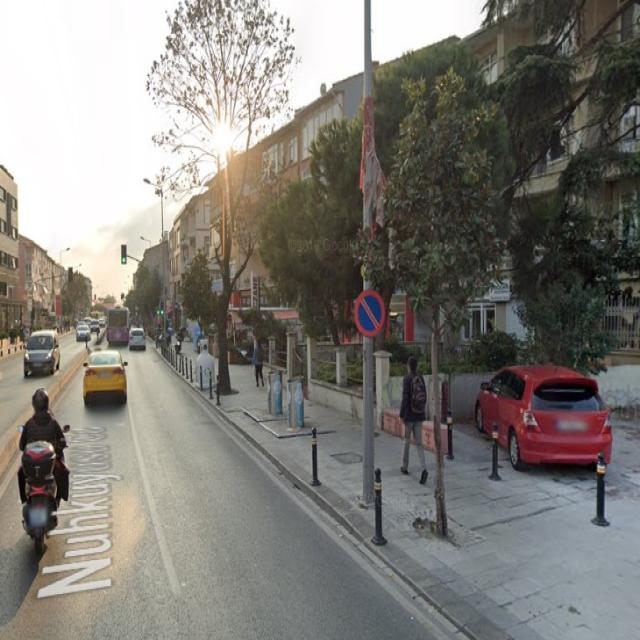parkyasak: (355, 290, 385, 336)
yesil: (121, 245, 126, 264), (159, 300, 165, 315)
